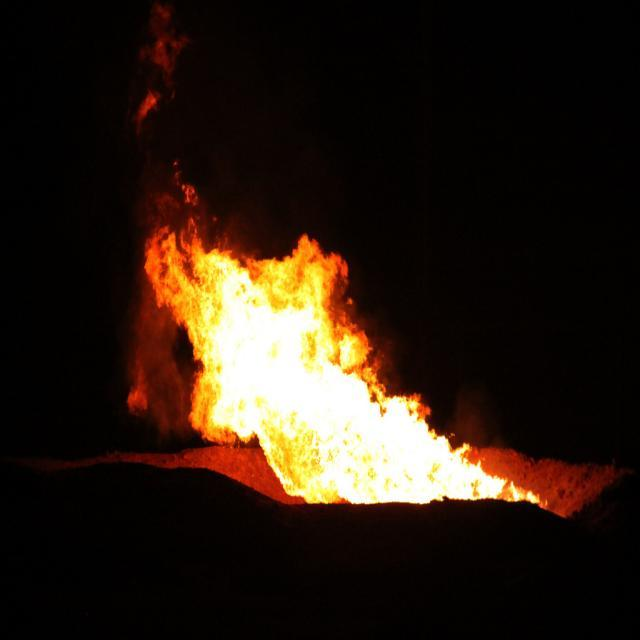Fire: (195, 253, 334, 476), (354, 401, 442, 492)
